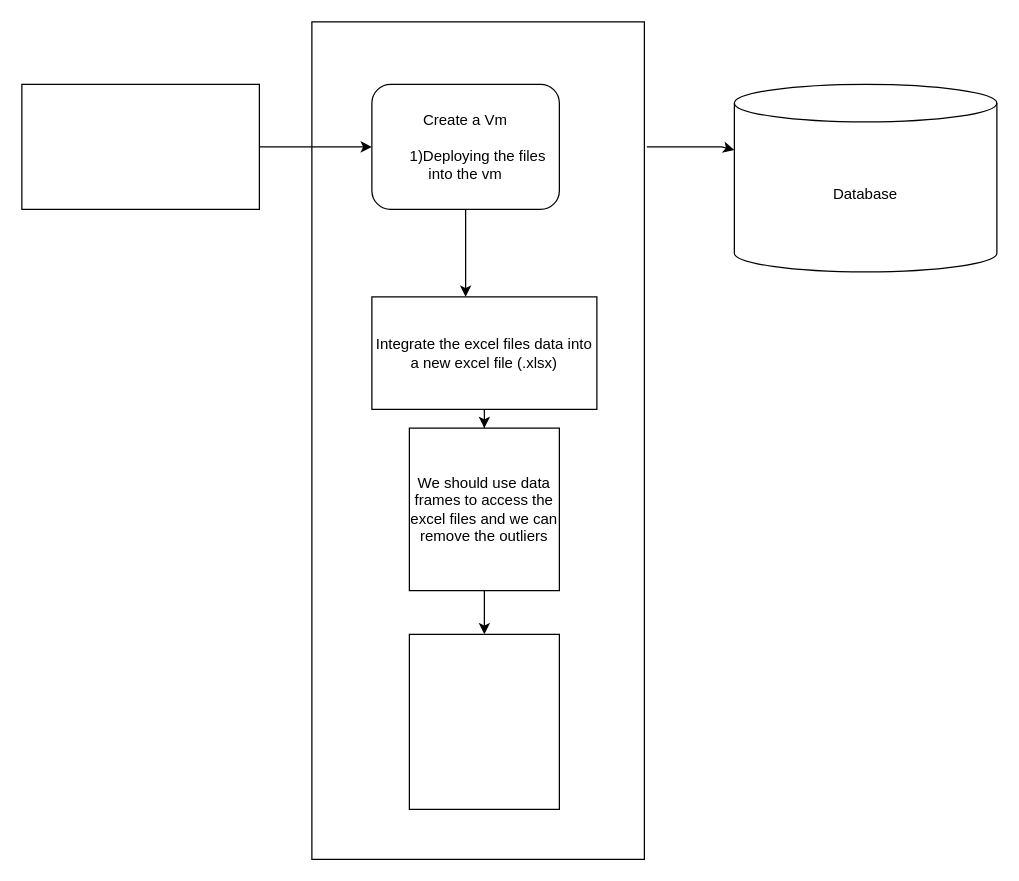
Some shapes in this 1019 by 881 pixel diagram are drawn without their labels. Each missing label, with the centre of its shape:
"Extract the excel files" belongs at [140,146].
"To transform the data into the excel file (non-redundant data)" belongs at [483,721].
